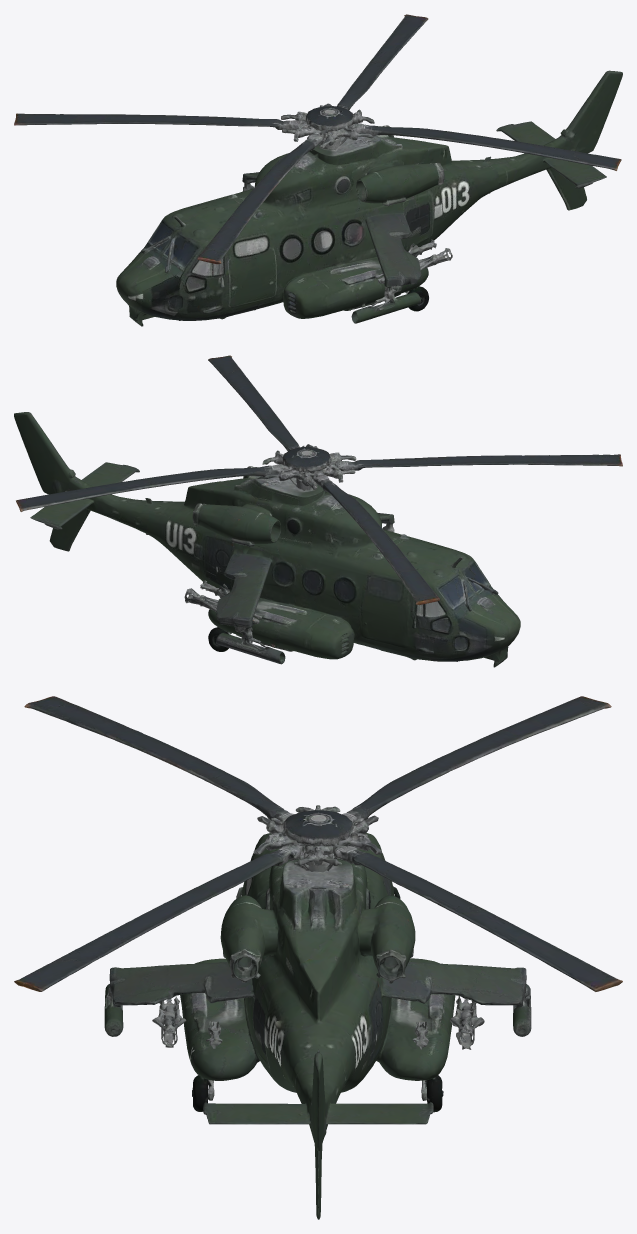
Rendered from helicopter.glb.
3 renders of one model, top to bottom at view 1: azimuth 30°, elevation 25°; view 2: azimuth 150°, elevation 25°; view 3: azimuth 270°, elevation 25°, orthographic. The views are drawn at different scales.
Bounding box in the file's own units: 1.9 × 0.6395 × 1.35.
1 material, 1 textured.
